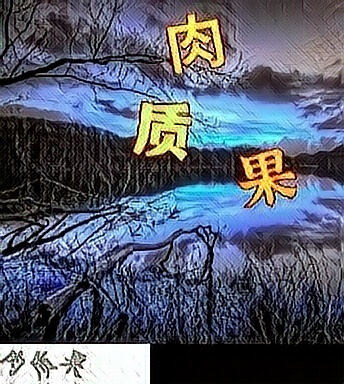B9FB: (234, 145, 296, 209)
C8E2: (166, 10, 228, 74)
D6CA: (131, 96, 193, 160)
